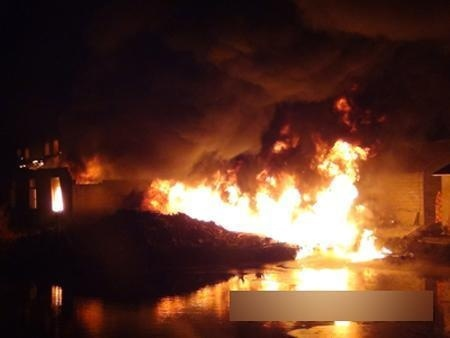fire: (140, 134, 384, 275), (49, 178, 66, 211)
